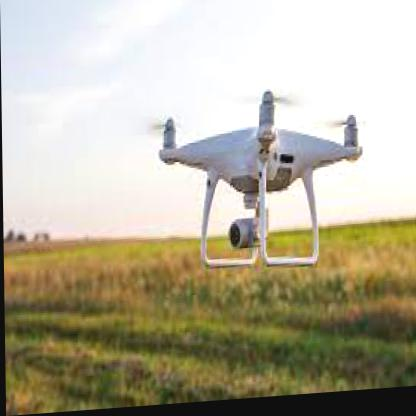UAS: (158, 89, 364, 280)
